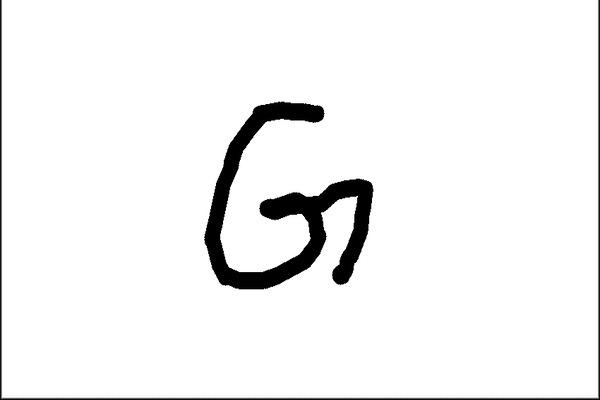G: (201, 98, 375, 294)
